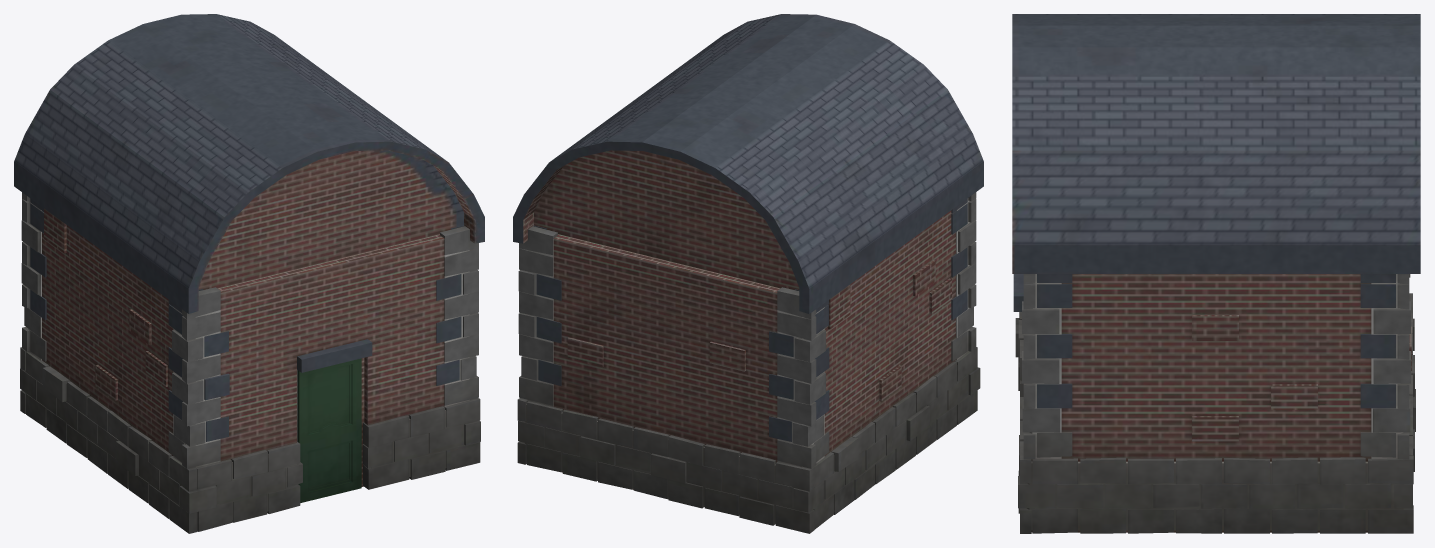
The model's file is building_1Story_RoundRoof.glb.
3 renders of one model, left to right at view 1: azimuth 30°, elevation 25°; view 2: azimuth 150°, elevation 25°; view 3: azimuth 270°, elevation 25°, orthographic. The views are drawn at different scales.
Visible parts, largest first — view 1: 1Story_RoundRoof_medium; view 2: 1Story_RoundRoof_medium; view 3: 1Story_RoundRoof_medium.
Boxes of the visible parts, <box> form: 1Story_RoundRoof_medium: <box>14,14,484,533</box>; 1Story_RoundRoof_medium: <box>513,14,983,533</box>; 1Story_RoundRoof_medium: <box>1012,14,1420,533</box>.
Size of the model in its own units: 2.09 by 2.38 by 2.13.
1 material, 1 textured.
